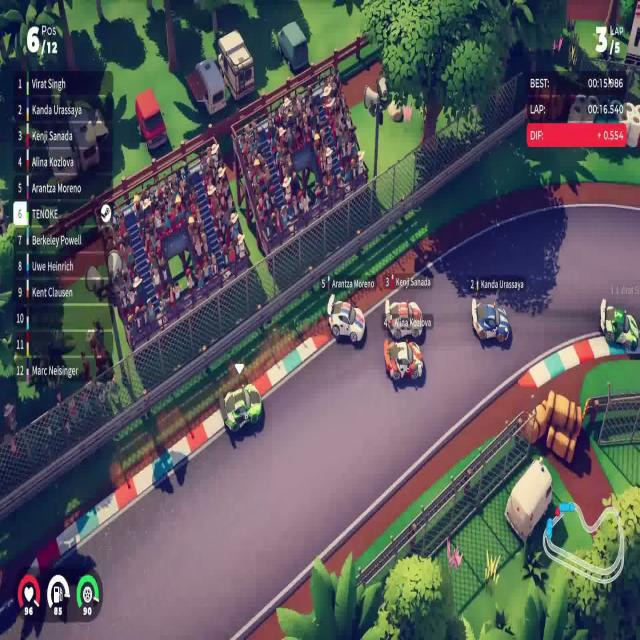car: (326, 292, 366, 346), (599, 298, 639, 352), (222, 382, 263, 434), (471, 296, 510, 344), (382, 337, 423, 382), (383, 296, 424, 340)
